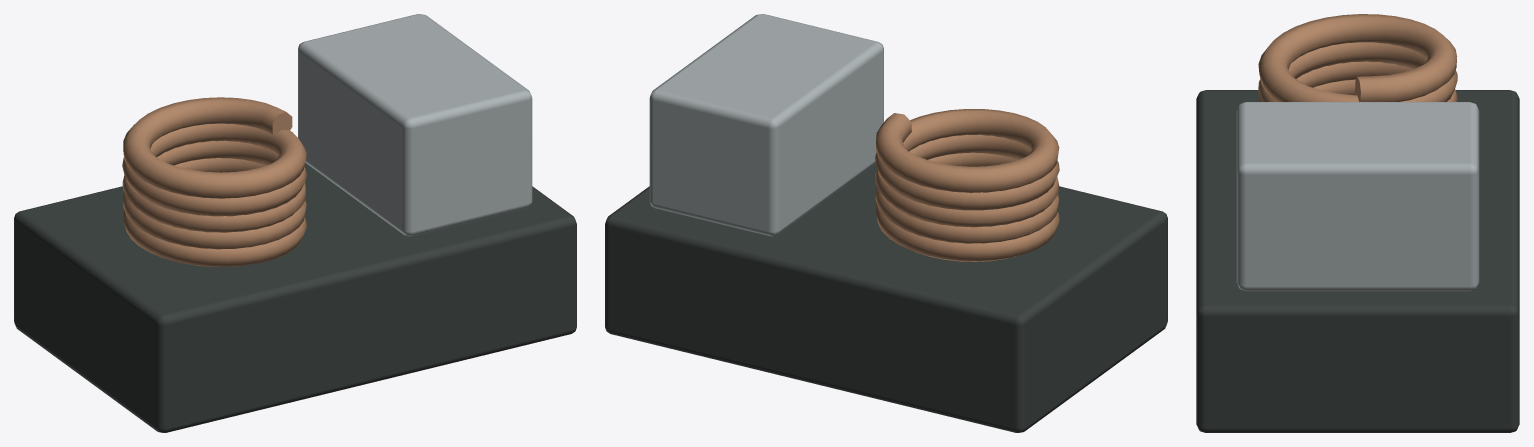
File: off-grid-power-and-controls-dc-converter-1eb7d1e5__2990.glb
The picture shows the model from 3 angles, left to right: view 1: azimuth 30°, elevation 25°; view 2: azimuth 150°, elevation 25°; view 3: azimuth 270°, elevation 25°; orthographic projection. The views are drawn at different scales.
Parts seen in each view (by area): view 1: dc-converter; view 2: dc-converter; view 3: dc-converter.
Part boxes in pixels (x1,y1,x2,y2): dc-converter: [14, 14, 576, 432]; dc-converter: [605, 14, 1167, 432]; dc-converter: [1196, 14, 1519, 432].
Bounding box in the file's own units: 0.13 × 0.07 × 0.08.
